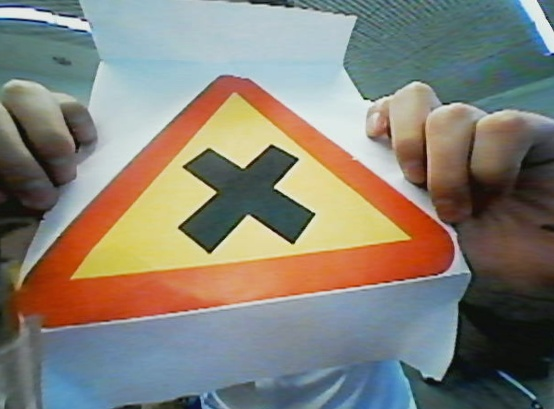junction: (14, 60, 491, 335)
